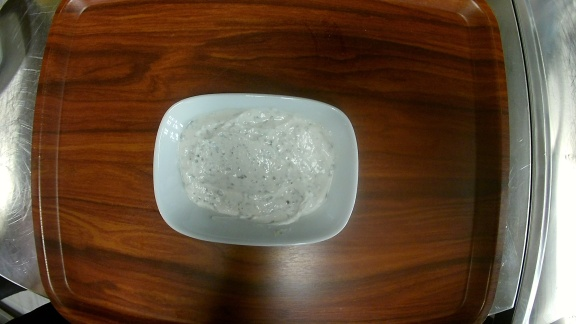haydari: (153, 92, 360, 247)
